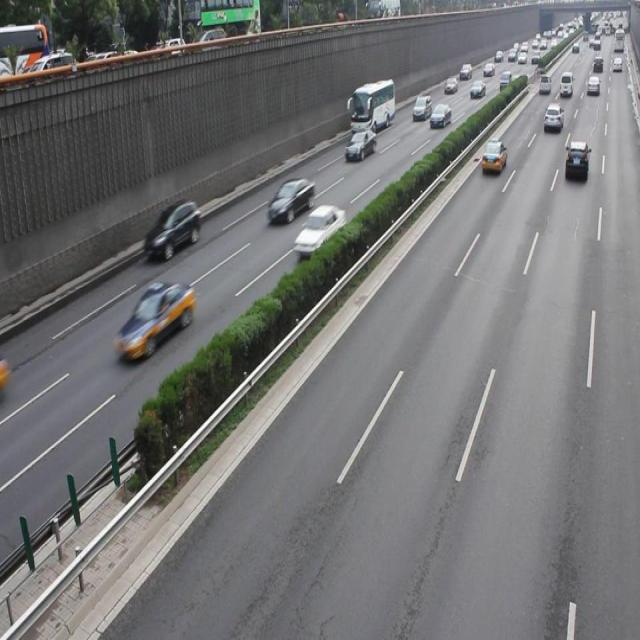car: (114, 281, 196, 358), (144, 197, 200, 258), (292, 202, 346, 257), (266, 177, 314, 222), (344, 128, 377, 162), (564, 140, 588, 180), (481, 138, 506, 176)
